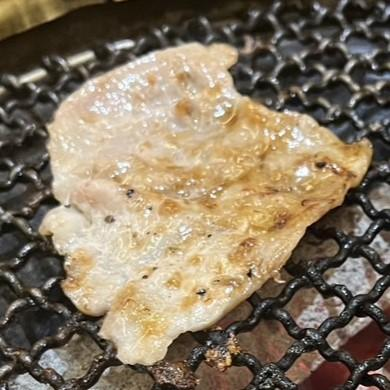Well-Cooked: (39, 43, 374, 368)
